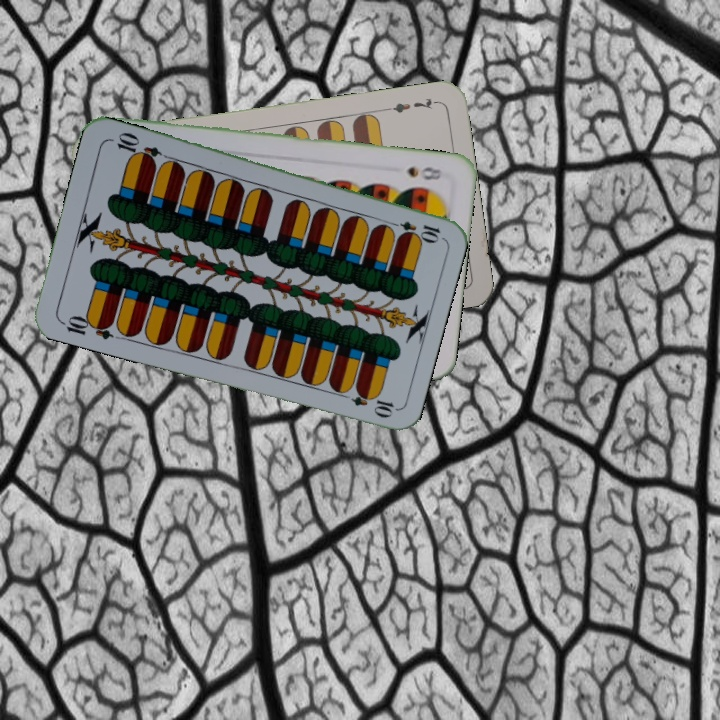E10: (57, 311, 116, 342), (384, 216, 443, 243)
E7: (382, 93, 441, 116)
S8: (403, 163, 447, 183)
